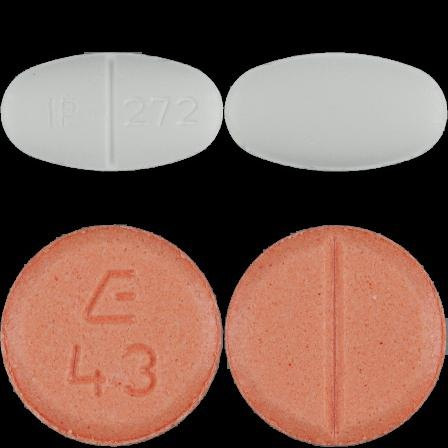68084-230: (0, 0, 224, 224)
